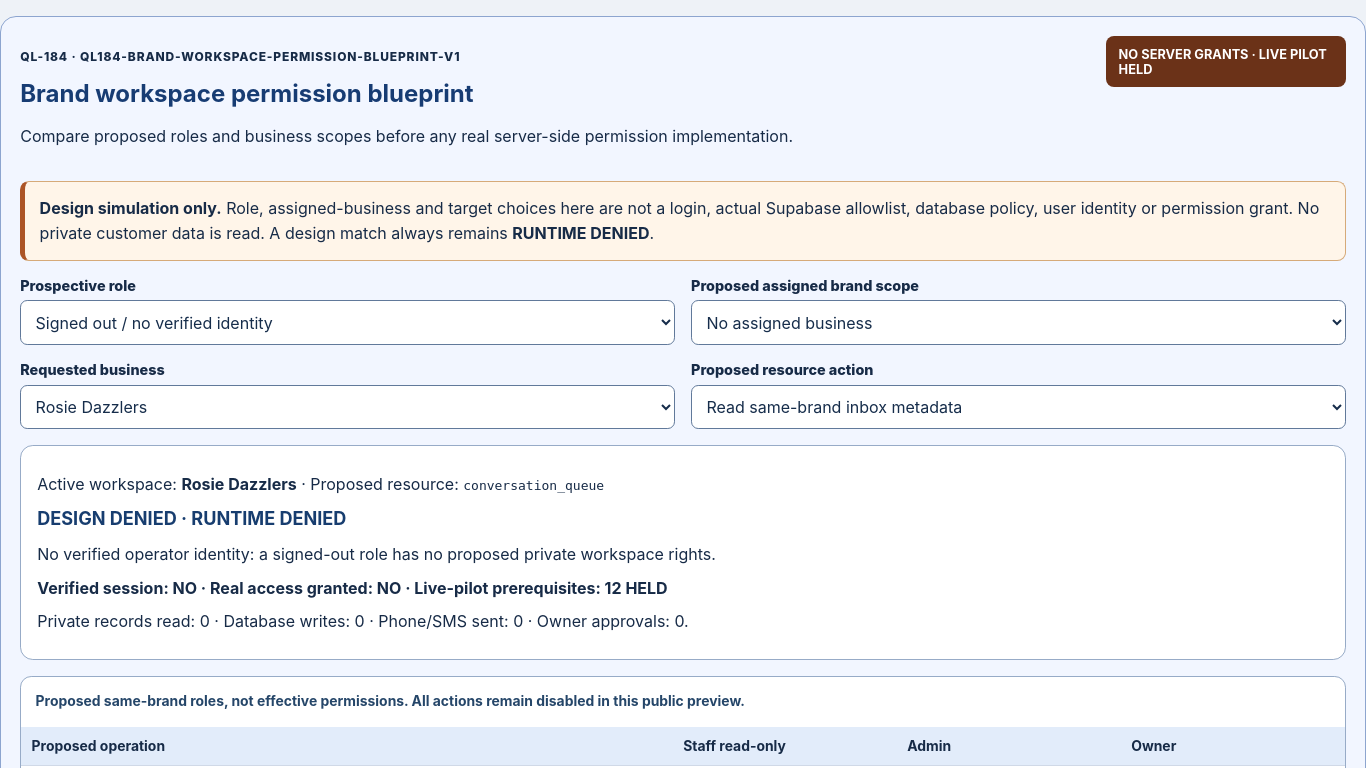
Test case: QL-184 accessible synthetic permission preview › business remount discards illustrative role choices and prevents a foreign business context
Select "Owner (illustration)" in the dropdown labelled "Prospective role" at (348, 323), box [20,300,675,345]
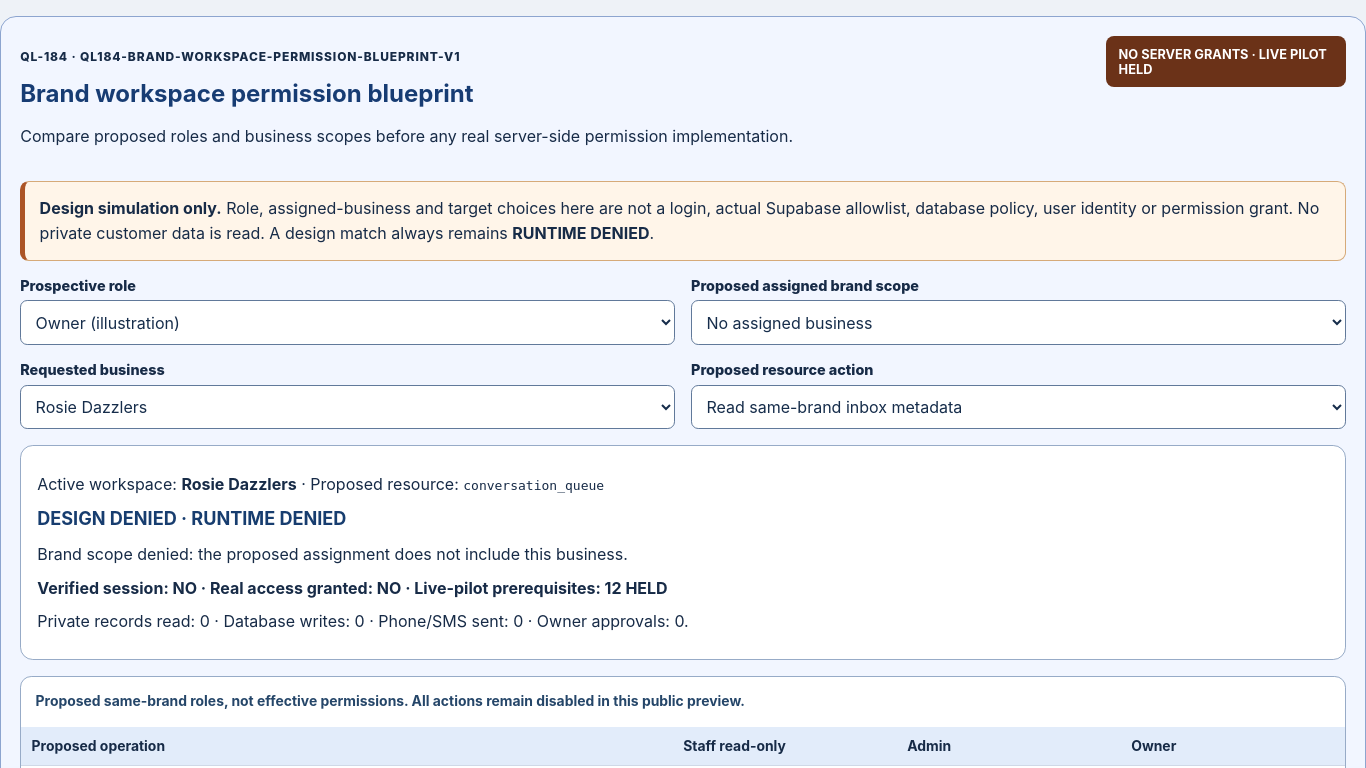
Select "Both businesses (separate contexts)" in the dropdown labelled "Proposed assigned brand scope" at (1018, 323), box [691,300,1346,345]
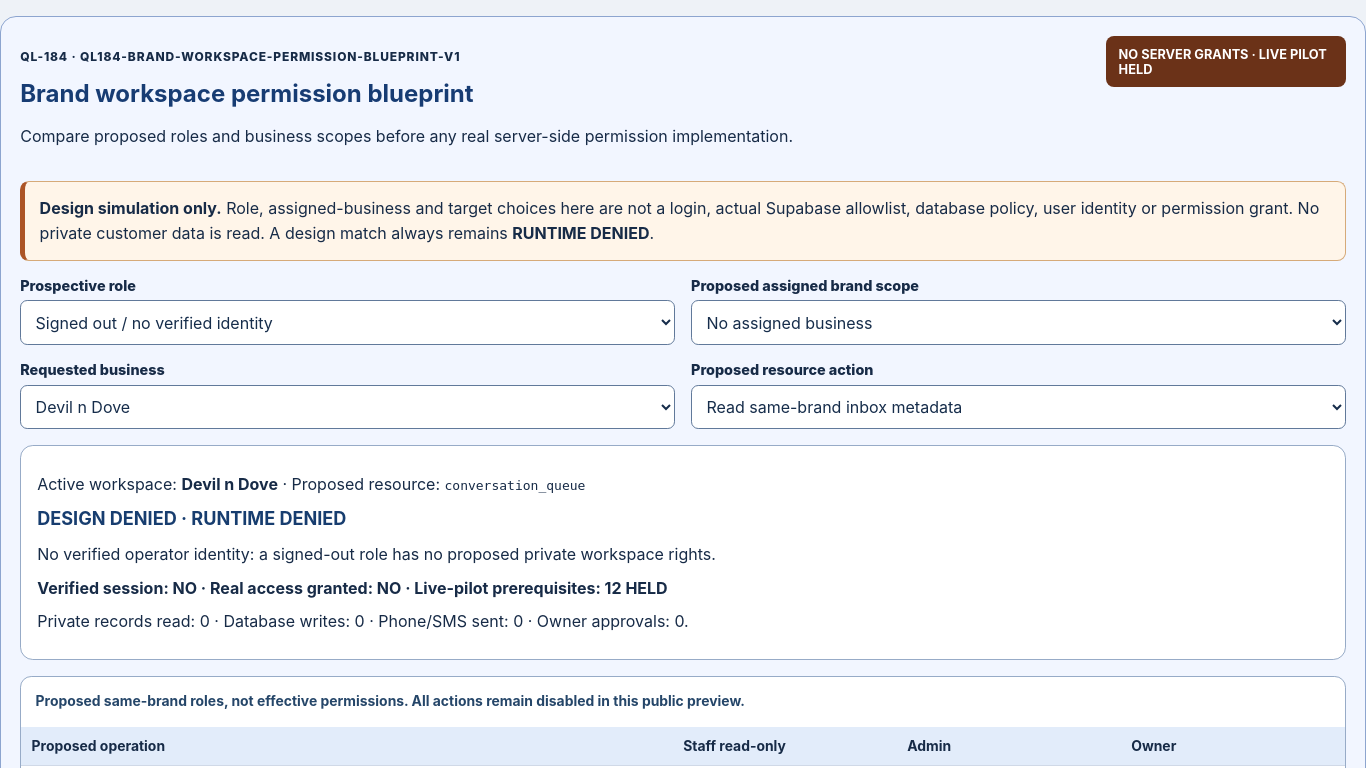
Now the dropdown labelled "Prospective role" shows "Signed out / no verified identity", box [20,300,675,345]
Now the dropdown labelled "Requested business" shows "Devil n Dove", box [20,384,675,429]
Now the text "Active workspace: Devil n Dove" is shown, box [37,474,585,494]
